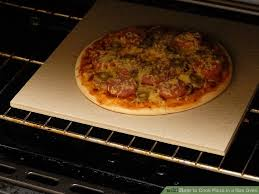pizza: (78, 30, 228, 110)
